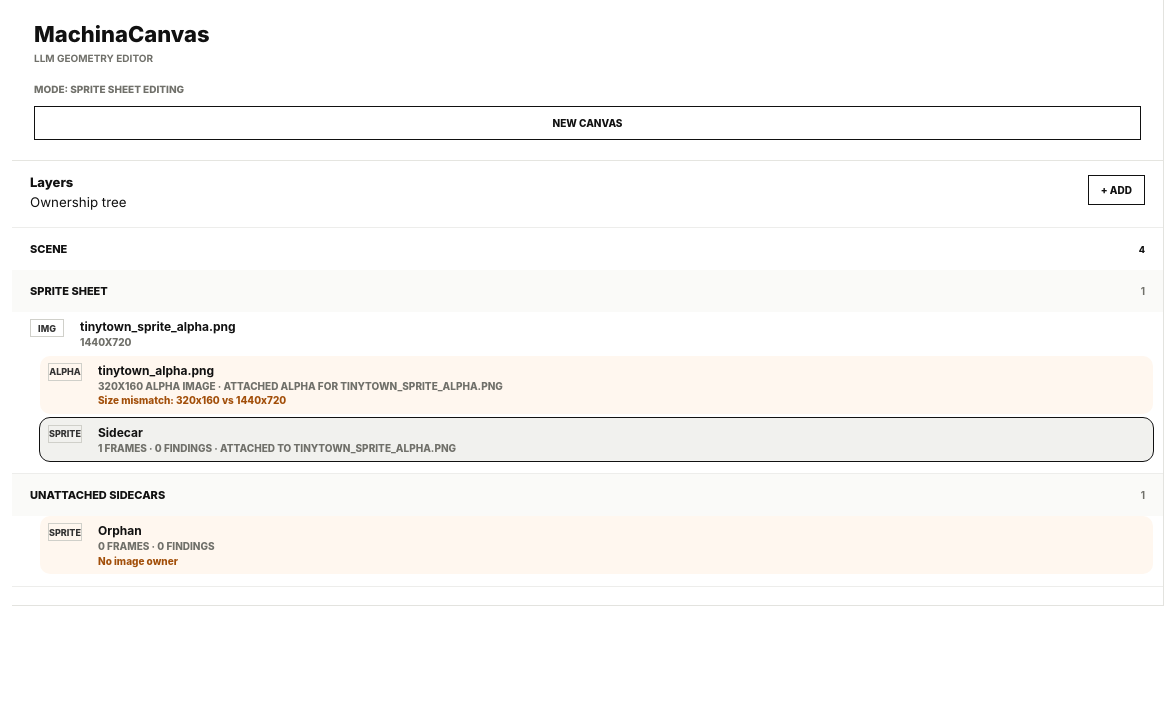
Test: MachinaCanvas layer panel › closes the add menu on Escape
This screenshot has width=1176, height=720.
Click the button "+ Add": (1116, 190) [1088,175,1145,205]
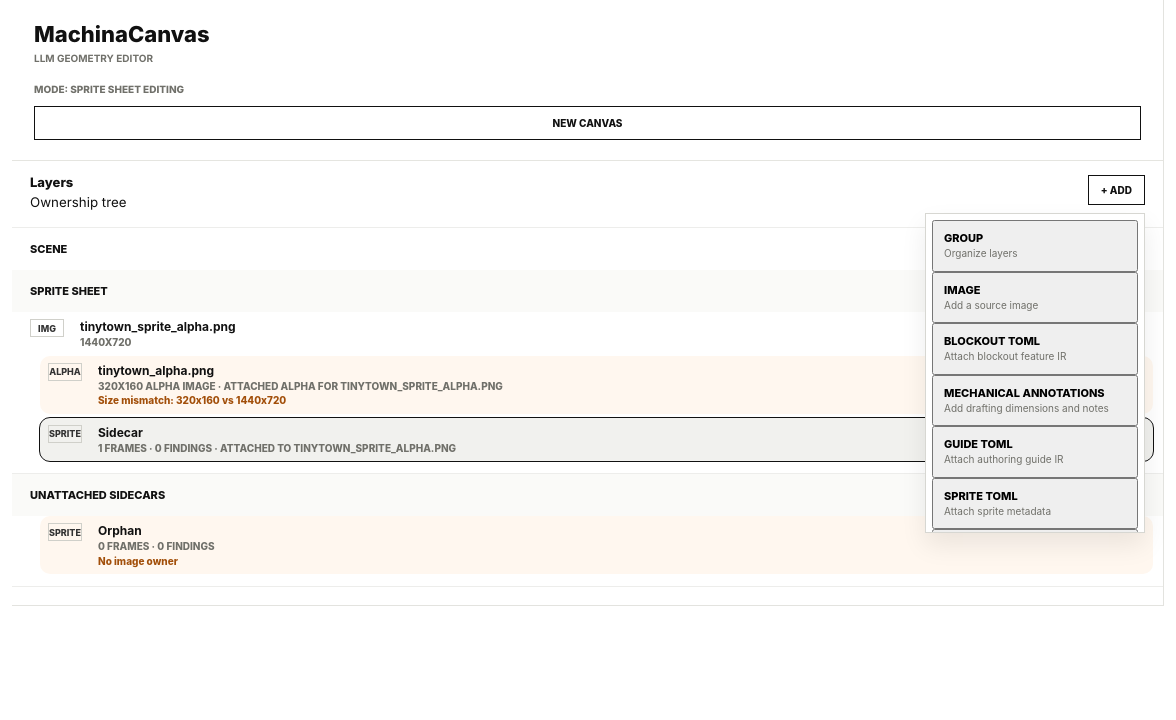
expect the menu is shown: met, box [925,213,1145,533]
Press Escape in the button "+ Add", box [1088,175,1145,205]
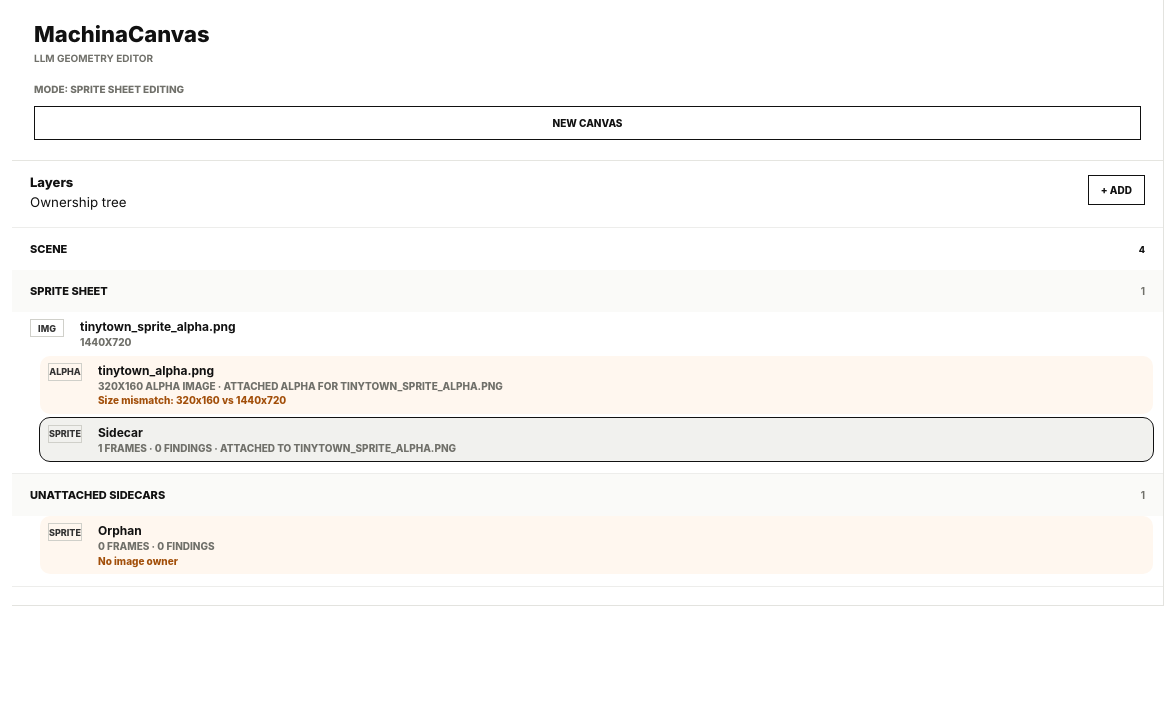
expect the menu is gone: met
